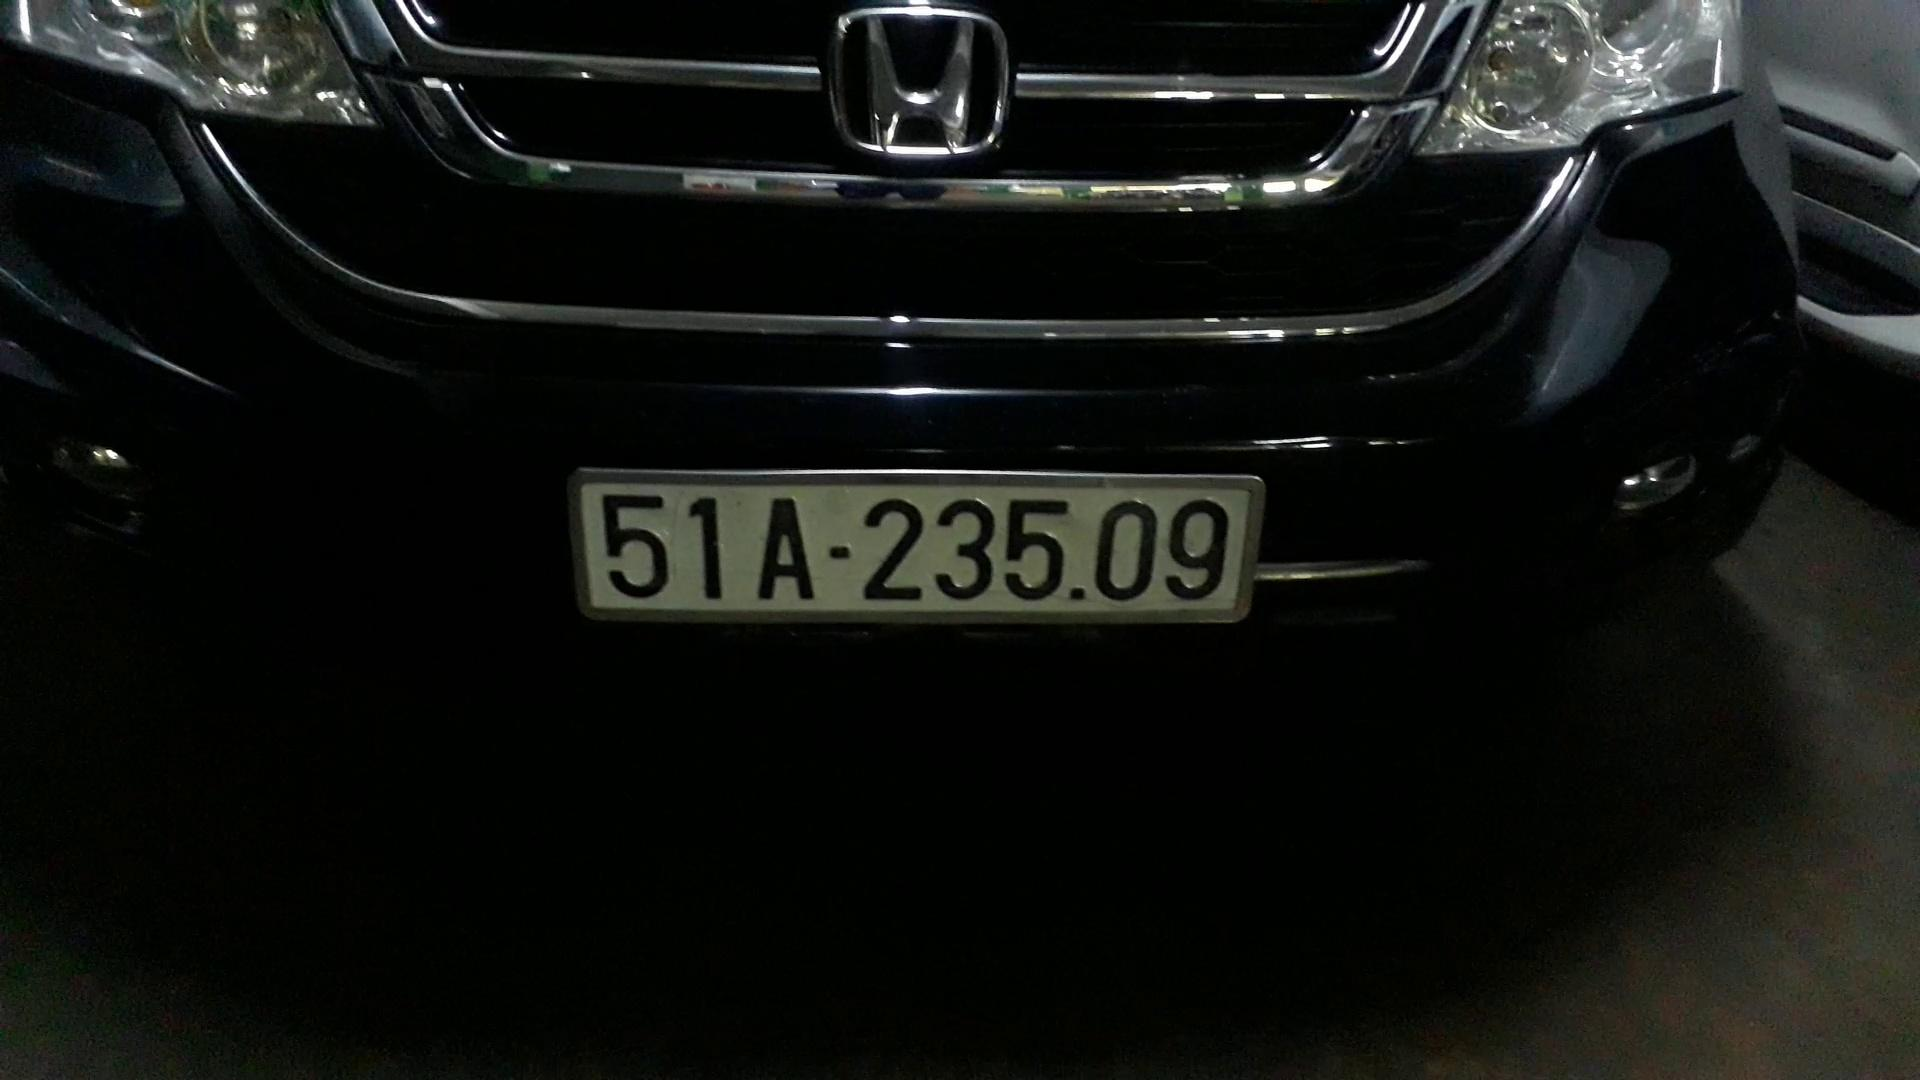numplate: (563, 430, 1303, 640)
